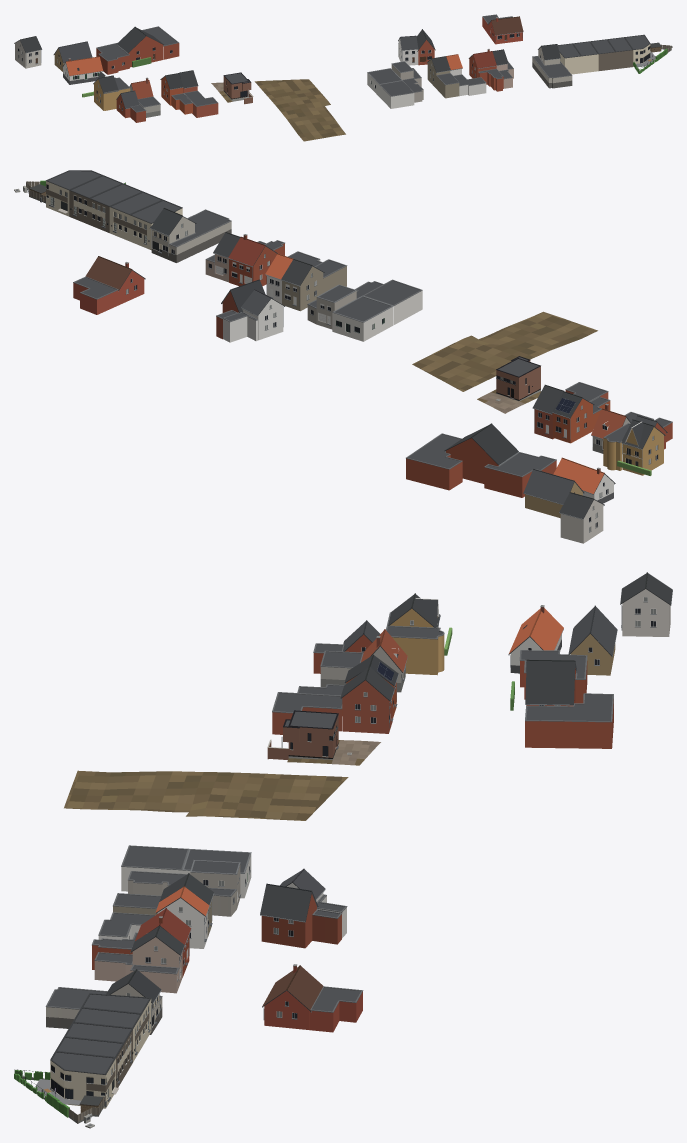
The model's file is molenhoek_end3.glb.
3 views of the same model, one above another, from view 1: azimuth 30°, elevation 25°; view 2: azimuth 150°, elevation 25°; view 3: azimuth 270°, elevation 25° (orthographic). The views are drawn at different scales.
Parts seen in each view (by area): view 1: mh_brick, mh_stone, mh_roof, mh_gravel, mh_render, mh_detail_w, mh_glass, mh_detail_m, mh_detail_e; view 2: mh_brick, mh_stone, mh_roof, mh_render, mh_gravel, mh_glass, mh_detail_w, mh_detail_m, mh_detail_e, mh_panel; view 3: mh_stone, mh_brick, mh_roof, mh_gravel, mh_render, mh_detail_m, mh_glass, mh_detail_w, mh_detail_e.
Part boxes in pixels (left/top/right/bottom): mh_brick: left=54, top=17, right=650, bottom=122; mh_stone: left=18, top=14, right=650, bottom=117; mh_roof: left=20, top=17, right=560, bottom=108; mh_gravel: left=211, top=79, right=345, bottom=141; mh_render: left=15, top=39, right=572, bottom=112; mh_detail_w: left=14, top=36, right=183, bottom=110; mh_glass: left=18, top=26, right=541, bottom=110; mh_detail_m: left=135, top=26, right=496, bottom=97; mh_detail_e: left=469, top=16, right=650, bottom=65; mh_brick: left=46, top=181, right=672, bottom=518; mh_stone: left=45, top=170, right=672, bottom=522; mh_roof: left=85, top=208, right=656, bottom=518; mh_render: left=152, top=217, right=633, bottom=543; mh_gravel: left=412, top=311, right=597, bottom=413; mh_glass: left=74, top=195, right=657, bottom=531; mh_detail_w: left=472, top=391, right=667, bottom=532; mh_detail_m: left=221, top=236, right=563, bottom=451; mh_detail_e: left=46, top=184, right=264, bottom=294; mh_panel: left=60, top=201, right=638, bottom=466; mh_stone: left=45, top=605, right=640, bottom=1084; mh_brick: left=50, top=607, right=615, bottom=1108; mh_roof: left=106, top=573, right=672, bottom=1011; mh_gravel: left=64, top=740, right=380, bottom=820; mh_render: left=46, top=589, right=670, bottom=1027; mh_detail_m: left=155, top=659, right=575, bottom=955; mh_glass: left=117, top=597, right=655, bottom=1072; mh_detail_w: left=344, top=572, right=672, bottom=708; mh_detail_e: left=50, top=909, right=311, bottom=1101.
Bounding box in the file's own units: 226 × 15.17 × 127.
